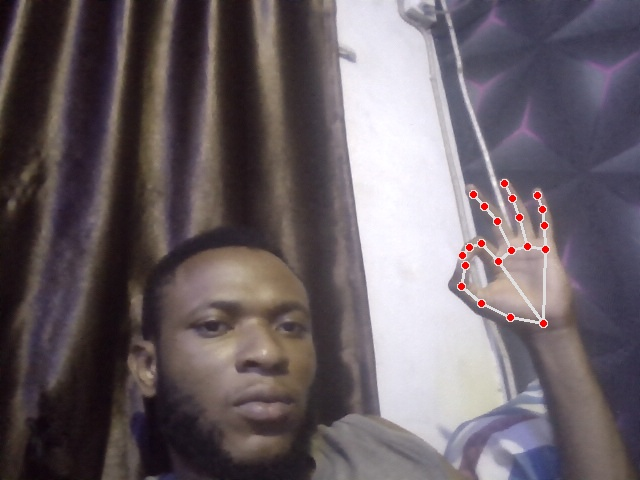okay: (448, 176, 572, 331)
